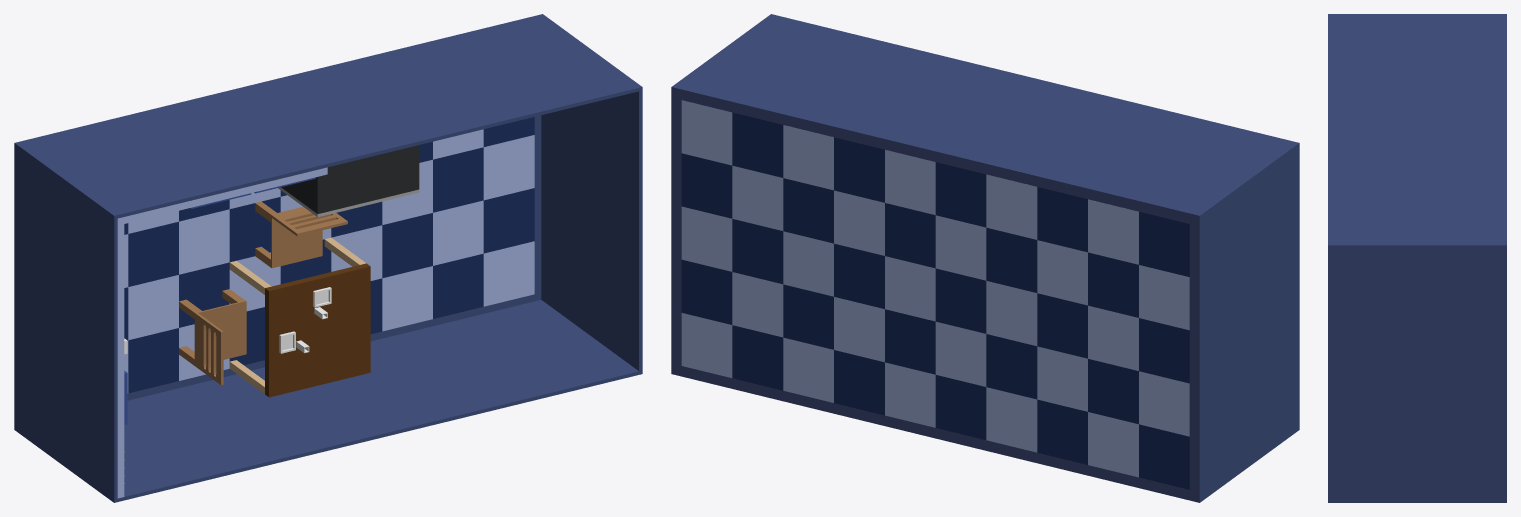
Rendered from kitchen.obj.
3 renders of one model, left to right at view 1: azimuth 30°, elevation 25°; view 2: azimuth 150°, elevation 25°; view 3: azimuth 270°, elevation 25°, orthographic. The views are drawn at different scales.
Visible parts, largest first — view 1: group_0_4017792, group_0_11452141, group_0_1650274, group_0_6306067, group_0_11107152, group_0_2829873, group_0_14860437, group_0_16448250; view 2: group_0_4017792, group_0_1650274, group_0_11452141; view 3: group_0_4017792.
Part boxes in pixels (<box>): group_0_4017792: <box>14,14,642,502</box>; group_0_11452141: <box>117,129,534,498</box>; group_0_1650274: <box>124,117,534,393</box>; group_0_6306067: <box>265,263,370,397</box>; group_0_11107152: <box>179,201,347,385</box>; group_0_2829873: <box>281,145,419,213</box>; group_0_14860437: <box>229,237,365,393</box>; group_0_16448250: <box>124,287,331,354</box>; group_0_4017792: <box>671,14,1299,502</box>; group_0_1650274: <box>681,112,1189,489</box>; group_0_11452141: <box>681,100,1189,477</box>; group_0_4017792: <box>1328,14,1506,502</box>.
Bounding box in the file's own units: 156 × 81 × 51.
